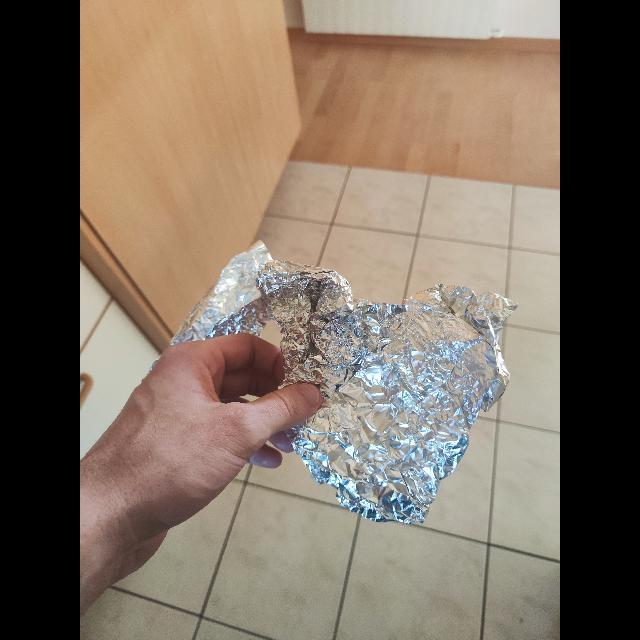Metal: (157, 220, 527, 526)
